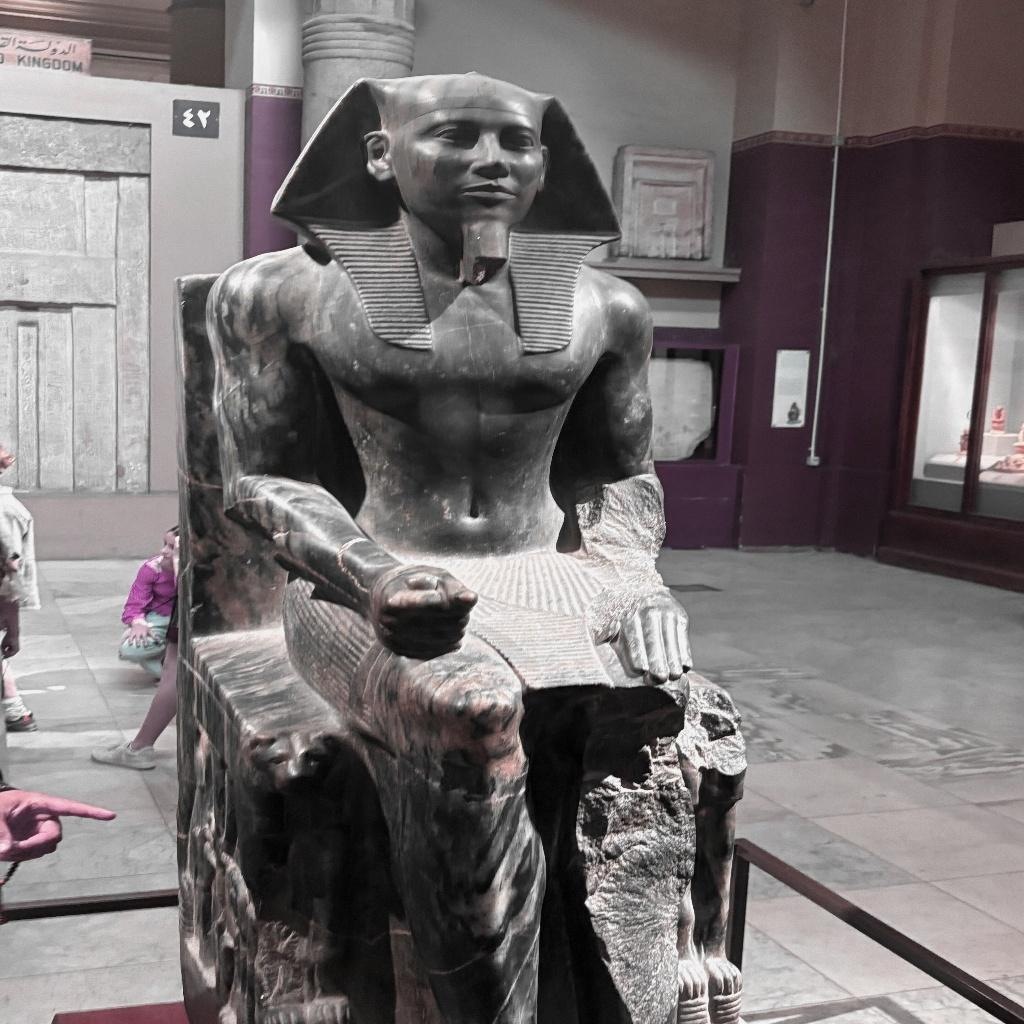Statue of Khafre: (172, 72, 747, 1024)
